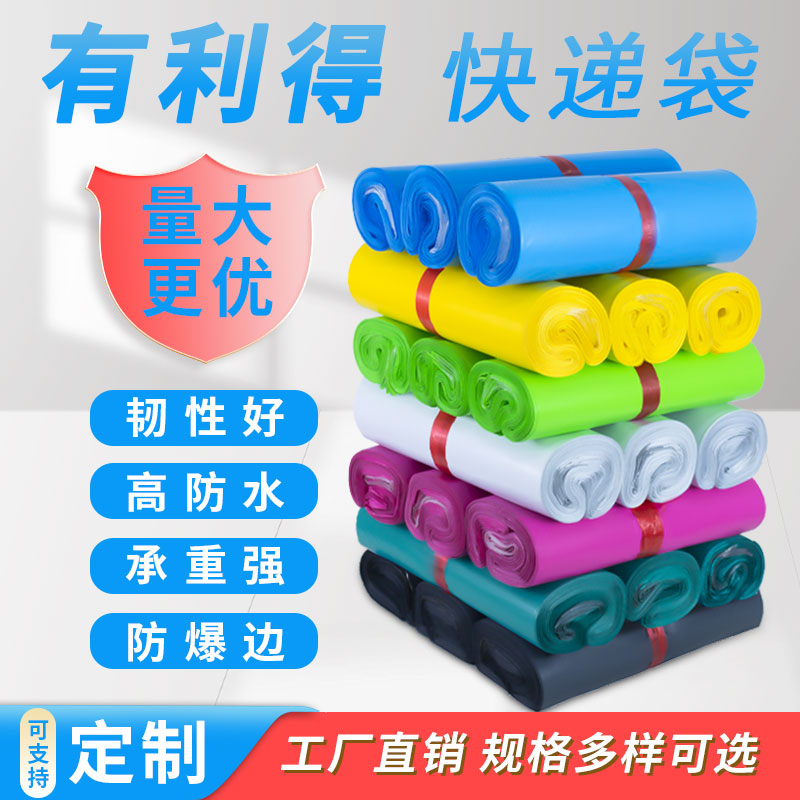Parcel: (348, 150, 766, 709)
